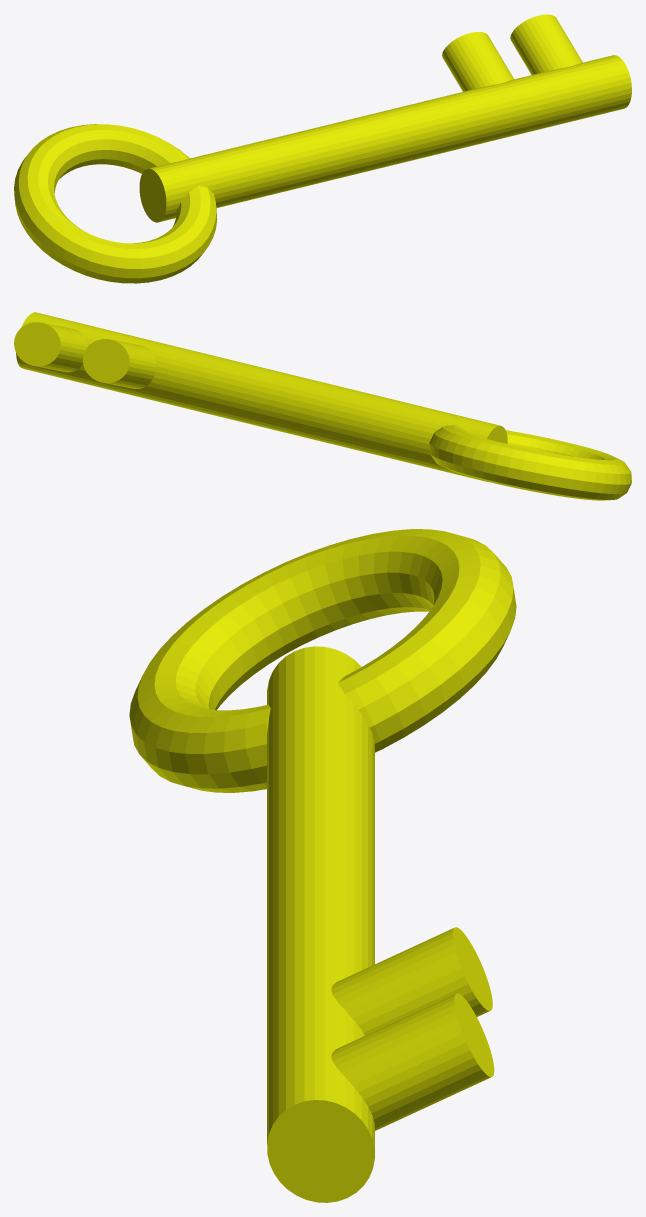
File: key.fbx
3 renders of one model, top to bottom at view 1: azimuth 30°, elevation 25°; view 2: azimuth 150°, elevation 25°; view 3: azimuth 270°, elevation 25°, orthographic. The views are drawn at different scales.
Visible parts, largest first — view 1: KeyGold; view 2: KeyGold; view 3: KeyGold.
Part boxes in pixels (bbox=[...]): KeyGold: bbox=[14, 14, 631, 283]; KeyGold: bbox=[14, 312, 631, 500]; KeyGold: bbox=[129, 529, 516, 1202].
Size of the model in its own units: 5.15 by 0.8364 by 1.46.
